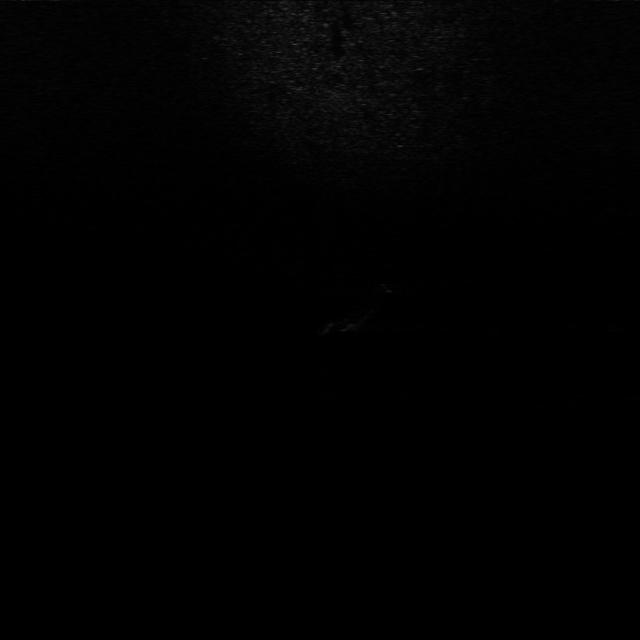human body: (320, 275, 408, 339)
